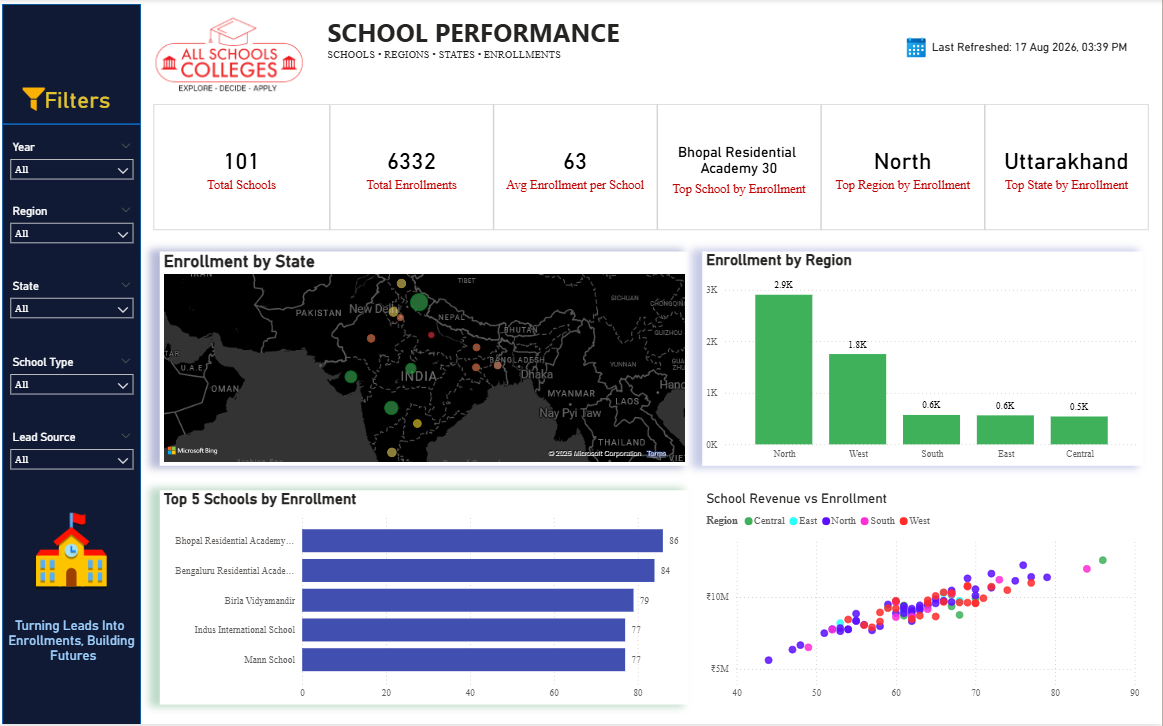

Layout of this report page (visuals, bound fields, positions):
{"tool":"powerbi","page":{"name":"School Performance","canvas":[1480,920],"ordinal":3},"visuals":[{"type":"shape","box":[7.7,6.8,176,928],"z":0},{"type":"card","fields":{"Values":["KPI_Measures.Total Schools"]},"box":[199.7,133.3,224,160],"z":1000},{"type":"card","fields":{"Values":["KPI_Measures.Total Enrollments"]},"box":[423.7,133.3,208,160],"z":2000},{"type":"card","fields":{"Values":["KPI_Measures.Avg Enrollment per School"]},"box":[631.7,133.3,208,160],"z":3000},{"type":"card","fields":{"Values":["KPI_Measures.Top School by Enrollment"]},"box":[839.7,133.3,208,160],"z":4000},{"type":"card","fields":{"Values":["KPI_Measures.Top Region by Enrollment"]},"box":[1047.7,133.3,208,160],"z":5000},{"type":"map","title":"Enrollment by State","fields":{"Category":["dim_school.State"],"Size":["KPI_Measures.Total Enrollments"]},"box":[208,320,672,272],"z":6000},{"type":"clusteredColumnChart","title":"Enrollment by Region","fields":{"Category":["dim_school.Region"],"Y":["KPI_Measures.Total Enrollments"]},"box":[896,320,560,272],"z":7000},{"type":"clusteredBarChart","title":"Top 5 Schools by Enrollment","fields":{"Category":["dim_school.school_name"],"Y":["KPI_Measures.Total Enrollments"]},"box":[208,624,672,272],"z":8000},{"type":"image","box":[23.7,110.8,48,32],"z":10000},{"type":"card","fields":{"Values":["KPI_Measures.filter"]},"box":[39.7,110.8,128,32],"z":11000},{"type":"shape","box":[7.7,142.8,176,32],"z":12000},{"type":"card","fields":{"Values":["KPI_Measures.Top State by Enrollment"]},"box":[1255.7,133.3,208,160],"z":13000},{"type":"slicer","fields":{"Values":["Dim_Date.Year"]},"box":[7.7,174.8,176,64],"z":14000},{"type":"slicer","fields":{"Values":["dim_school.region"]},"box":[7.7,254.8,176,64],"z":15000},{"type":"slicer","fields":{"Values":["dim_school.state"]},"box":[7.7,350.8,176,64],"z":16000},{"type":"slicer","fields":{"Values":["dim_school.school_type"]},"box":[7.7,446.8,176,64],"z":17000},{"type":"slicer","fields":{"Values":["fact_leads.lead_source"]},"box":[7.7,542.8,176,64],"z":18000},{"type":"image","box":[39.7,622.8,112,160],"z":19000},{"type":"image","box":[199.7,14.8,192,112],"z":20000},{"type":"textbox","box":[416,16,608,112],"z":21000},{"type":"card","fields":{"Values":["KPI_Measures.Last Refresh"]},"box":[1159.7,30.8,304,64],"z":22000},{"type":"image","box":[1143.7,46.8,48,32],"z":23000},{"type":"card","fields":{"Values":["KPI_Measures.Quote"]},"box":[7.7,766.8,176,96],"z":24000},{"type":"scatterChart","title":"School Revenue vs Enrollment","fields":{"X":["KPI_Measures.Total Enrollments"],"Y":["KPI_Measures.Total Revenue"],"Category":["dim_school.school_name"],"Series":["dim_school.Region"]},"box":[896,624,560,272],"z":25000}]}

Visuals, with their boxes in screenshot pixels (x1, y1, x2, y2), scaled from the page's 1480x920 canvas onto the 1163x726 screenshot:
shape: rect(6, 5, 144, 725)
card - KPI_Measures.Total Schools: rect(157, 105, 333, 231)
card - KPI_Measures.Total Enrollments: rect(333, 105, 496, 231)
card - KPI_Measures.Avg Enrollment per School: rect(496, 105, 660, 231)
card - KPI_Measures.Top School by Enrollment: rect(660, 105, 823, 231)
card - KPI_Measures.Top Region by Enrollment: rect(823, 105, 987, 231)
"Enrollment by State" map: rect(163, 253, 692, 467)
"Enrollment by Region" clusteredColumnChart: rect(704, 253, 1144, 467)
"Top 5 Schools by Enrollment" clusteredBarChart: rect(163, 492, 692, 707)
image: rect(19, 87, 56, 113)
card - KPI_Measures.filter: rect(31, 87, 132, 113)
shape: rect(6, 113, 144, 138)
card - KPI_Measures.Top State by Enrollment: rect(987, 105, 1150, 231)
slicer - Dim_Date.Year: rect(6, 138, 144, 188)
slicer - dim_school.region: rect(6, 201, 144, 252)
slicer - dim_school.state: rect(6, 277, 144, 327)
slicer - dim_school.school_type: rect(6, 353, 144, 403)
slicer - fact_leads.lead_source: rect(6, 428, 144, 479)
image: rect(31, 491, 119, 618)
image: rect(157, 12, 308, 100)
textbox: rect(327, 13, 805, 101)
card - KPI_Measures.Last Refresh: rect(911, 24, 1150, 75)
image: rect(899, 37, 936, 62)
card - KPI_Measures.Quote: rect(6, 605, 144, 681)
"School Revenue vs Enrollment" scatterChart: rect(704, 492, 1144, 707)
